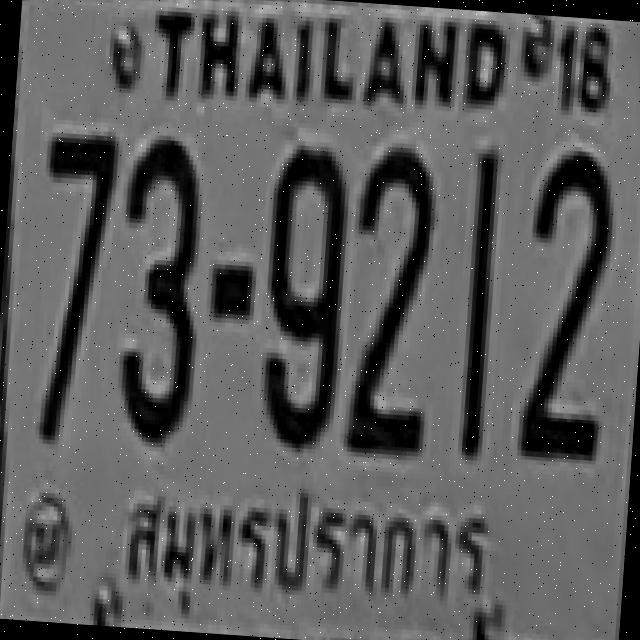0: (262, 142, 350, 332)
1: (462, 148, 500, 358)
2: (515, 243, 608, 458), (341, 240, 434, 454)
7: (36, 130, 115, 302)
9: (254, 208, 345, 448)
SamutPrakan: (103, 466, 496, 631)
